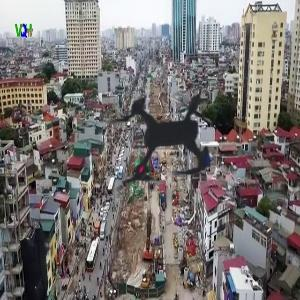drone: (49, 16, 284, 251)
